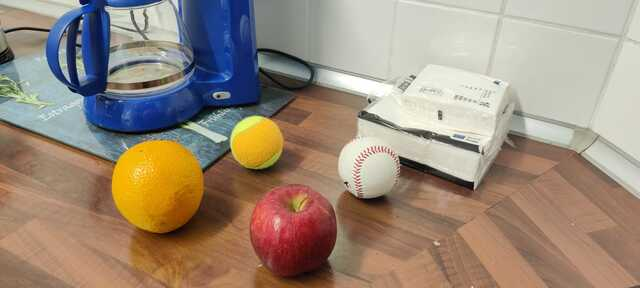013_apple: (250, 184, 338, 278)
017_orange: (111, 138, 205, 233)
055_baseball: (337, 135, 402, 200)
056_tennis_ball: (230, 114, 284, 170)
